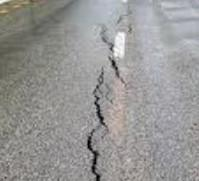crack: (83, 66, 110, 181), (96, 22, 126, 88), (117, 0, 133, 36)
